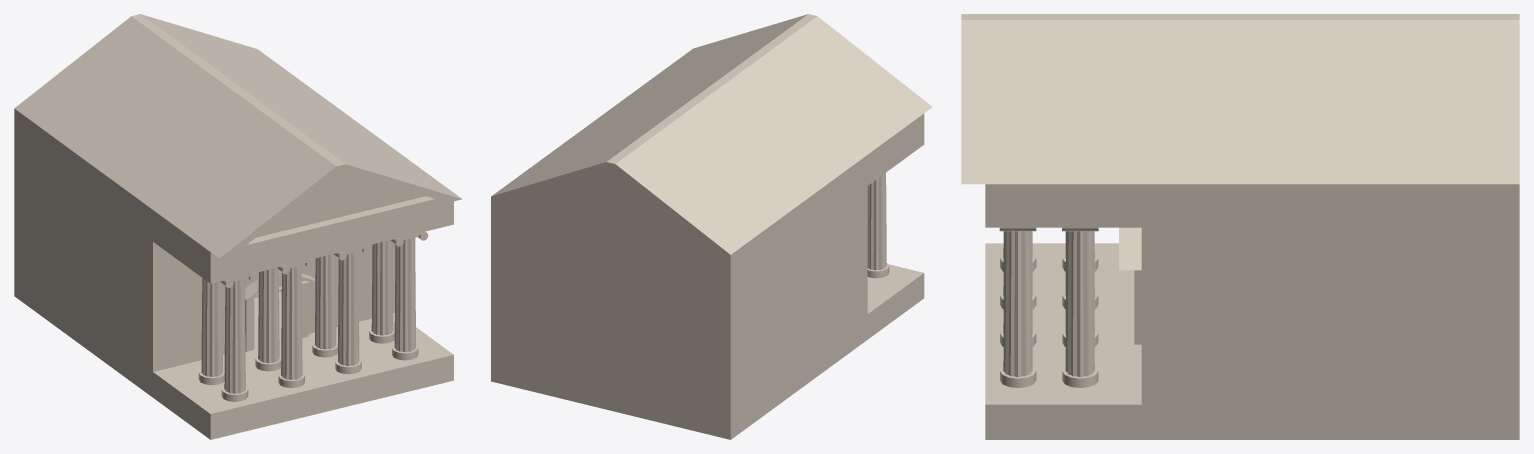
File: Temple.FBX
The picture shows the model from 3 angles, left to right: view 1: azimuth 30°, elevation 25°; view 2: azimuth 150°, elevation 25°; view 3: azimuth 270°, elevation 25°; orthographic projection. The views are drawn at different scales.
Parts seen in each view (by area): view 1: Roof, Walls, Patio, Floor, Middle001, Middle, Middle003, Middle002, Middle007, Middle006, Middle005, Middle004 (+1 smaller); view 2: Roof, Walls, Floor, Patio, Middle; view 3: Roof, Walls, Patio, Floor, Middle003, Middle004, Trim.
Boxes of the visible parts, x1,y1,x2,y2 form: Roof: (14, 14, 462, 283); Walls: (14, 140, 395, 371); Patio: (153, 313, 453, 439); Floor: (14, 270, 281, 397); Middle001: (281, 265, 302, 379); Middle: (224, 279, 245, 393); Middle003: (394, 237, 415, 352); Middle002: (338, 251, 359, 366); Middle007: (201, 278, 222, 377); Middle006: (258, 268, 279, 363); Middle005: (315, 254, 336, 349); Middle004: (371, 240, 393, 335); Roof: (491, 14, 932, 286); Walls: (491, 186, 867, 414); Floor: (491, 314, 867, 439); Patio: (867, 264, 924, 339); Middle: (867, 173, 886, 270); Roof: (961, 14, 1519, 227); Walls: (1134, 227, 1519, 404); Patio: (985, 243, 1141, 439); Floor: (1141, 404, 1519, 439); Middle003: (1003, 231, 1032, 377); Middle004: (1065, 231, 1094, 377); Trim: (1119, 227, 1141, 270).
Size of the model in its own units: 1200 by 1185 by 1753.
